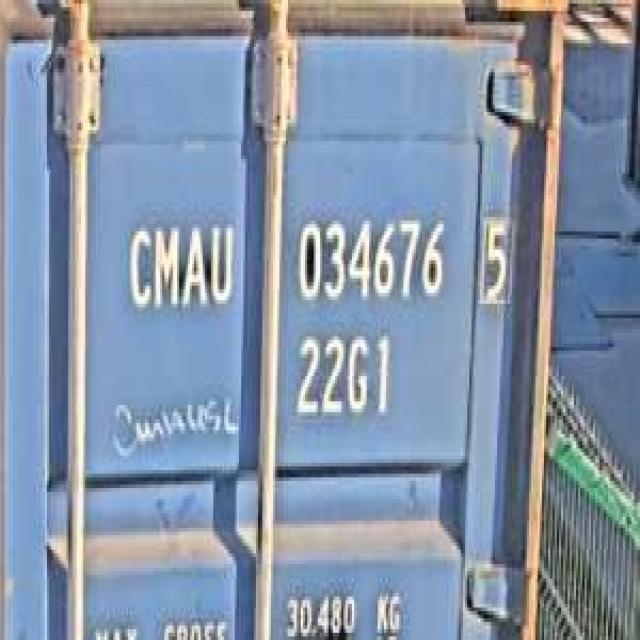dv: (476, 213, 514, 311)
owner: (122, 210, 235, 318)
serial: (288, 206, 450, 311)
size: (290, 326, 393, 426)
